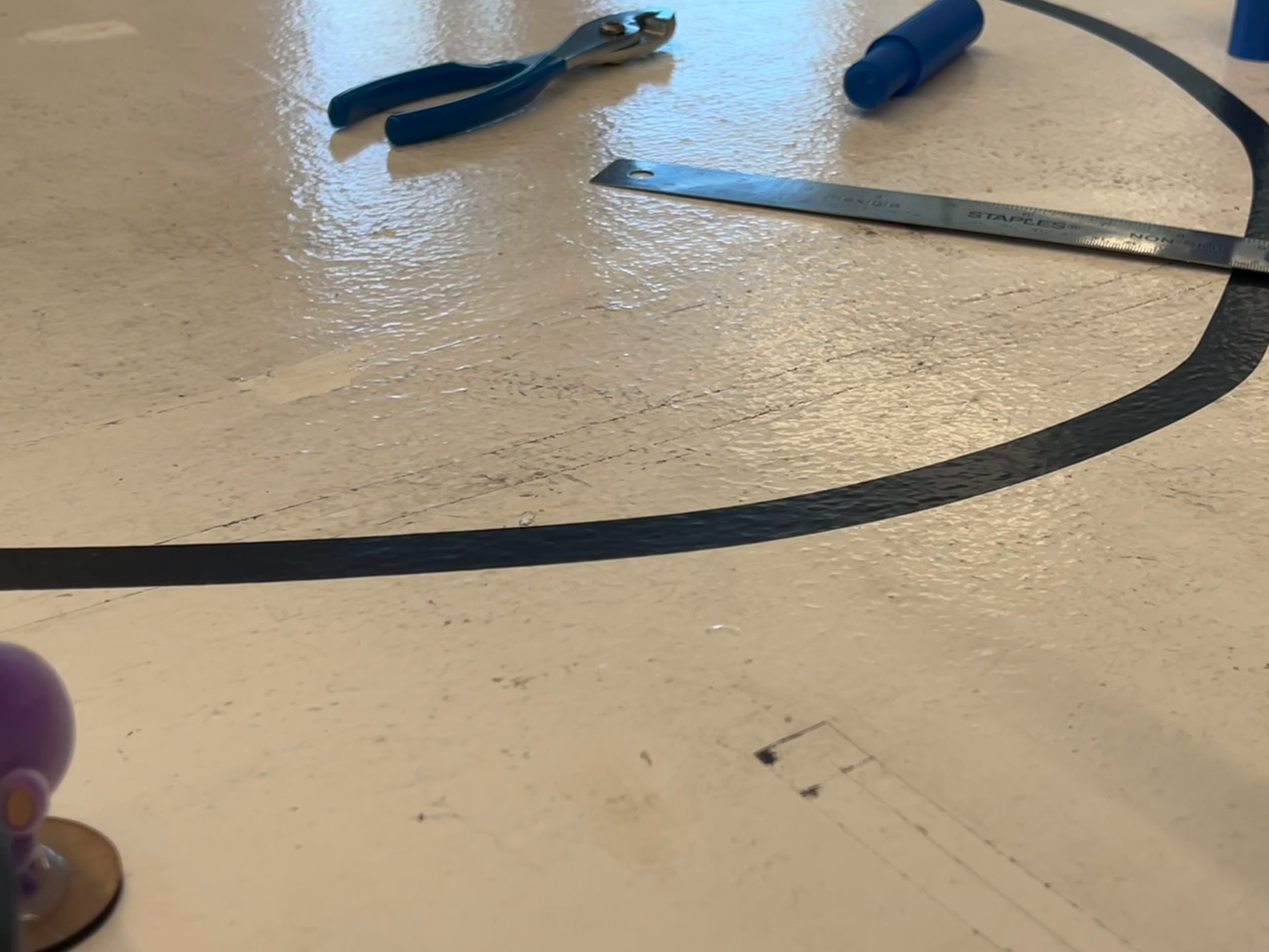teletubby: (0, 643, 74, 865)
